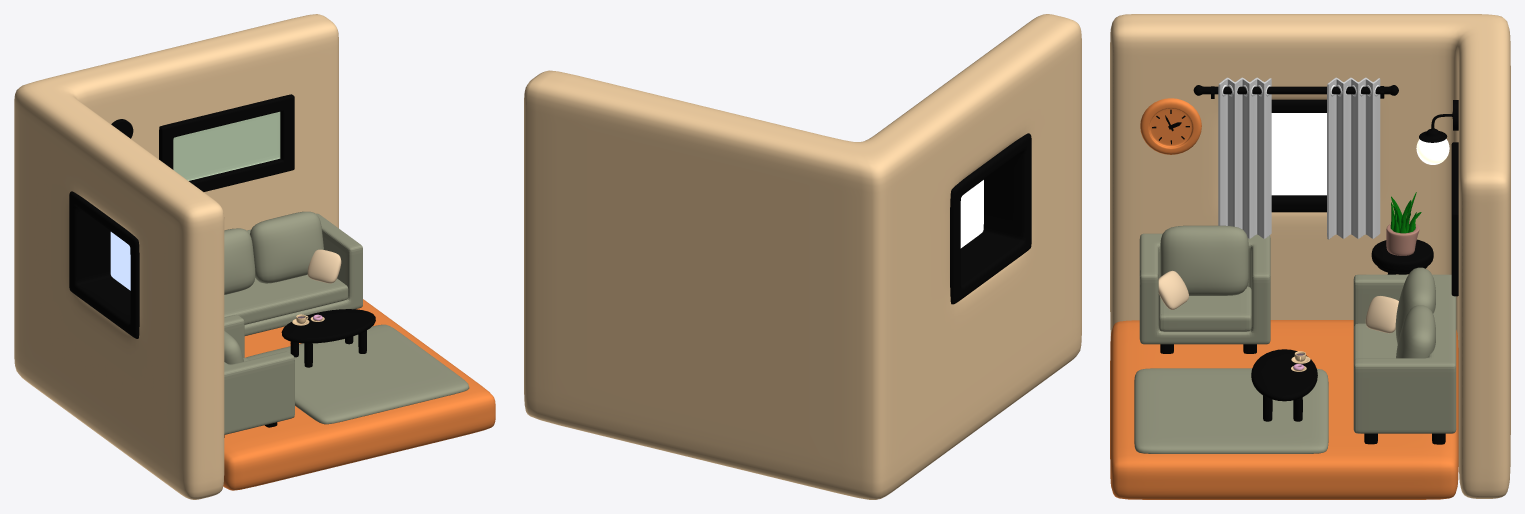
Rendered from isometric_room_3d.glb.
3 renders of one model, left to right at view 1: azimuth 30°, elevation 25°; view 2: azimuth 150°, elevation 25°; view 3: azimuth 270°, elevation 25°, orthographic. The views are drawn at different scales.
Visible parts, largest first — view 1: wall, floor, rug, frame, window, couch, couch.001, pillow.001, table, pillow, mini_pilow.001; view 2: wall, window; view 3: wall, floor, rug, couch, couch.001, curt.001, curt, window, pillow.002, table, Cylinder, pillow.001 (+10 smaller).
Boxes of the visible parts, x1,y1,x2,y2 form: wall: [14, 14, 338, 499]; floor: [223, 299, 495, 490]; rug: [245, 324, 469, 424]; frame: [159, 94, 294, 191]; window: [69, 191, 139, 338]; couch: [224, 213, 362, 335]; couch.001: [224, 314, 294, 434]; pillow.001: [250, 211, 323, 283]; table: [281, 309, 375, 367]; pillow: [224, 228, 255, 294]; mini_pilow.001: [307, 249, 341, 283]; wall: [524, 14, 1081, 499]; window: [950, 133, 1031, 304]; wall: [1110, 14, 1510, 498]; floor: [1110, 320, 1458, 499]; rug: [1134, 368, 1328, 453]; couch: [1353, 274, 1456, 433]; couch.001: [1139, 233, 1270, 344]; curt.001: [1327, 77, 1380, 239]; curt: [1218, 77, 1271, 238]; window: [1271, 99, 1326, 212]; pillow.002: [1160, 225, 1248, 295]; table: [1251, 349, 1317, 421]; Cylinder: [1140, 98, 1201, 154]; pillow.001: [1396, 305, 1435, 358].
Size of the model in its own units: 3.54 by 3.15 by 3.51.
